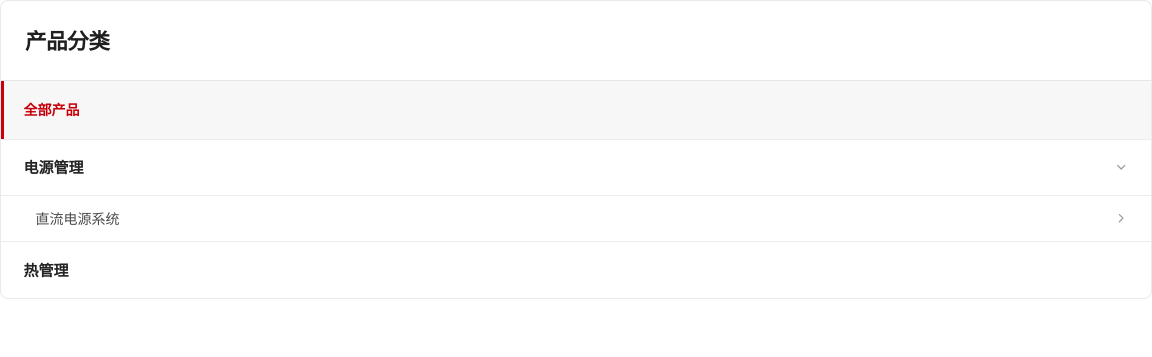
Test case: CategoryTree › keeps parent category titles navigable and uses the chevron to expand brands
The width and height of the screenshot is (1152, 357).
Expected: the text "直流电源系统" is shown, left=35, top=208, right=119, bottom=229
Expected: the text "中兴" is not shown
Click the button named "展开直流电源系统" at (1121, 219), box left=1099, top=196, right=1143, bottom=241
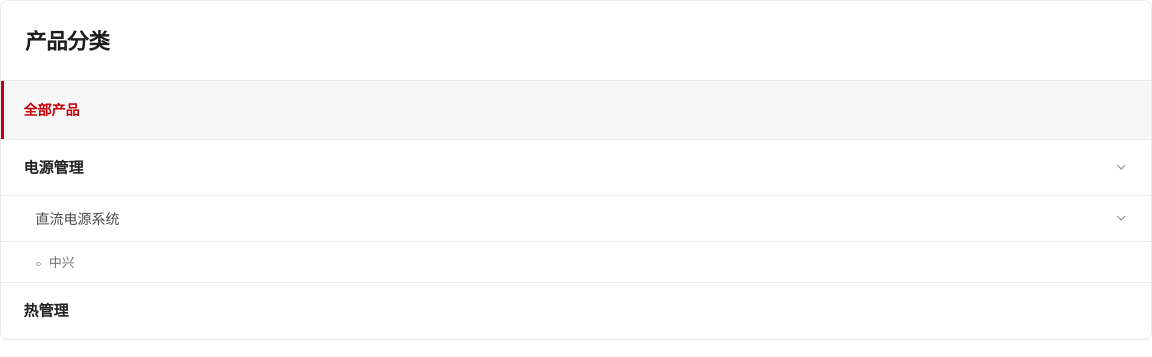
Expected: the text "中兴" is shown, left=49, top=252, right=75, bottom=272
